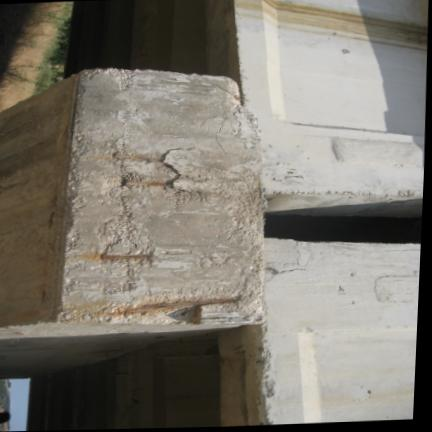Exposed Rebar: (98, 296, 230, 317), (103, 253, 151, 259), (127, 181, 172, 186)
beam: (237, 0, 427, 216), (261, 236, 421, 424)
pier cap: (0, 72, 256, 380)
stain: (248, 0, 425, 48)
